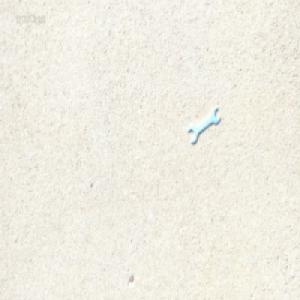Wrench: (188, 108, 219, 144)
